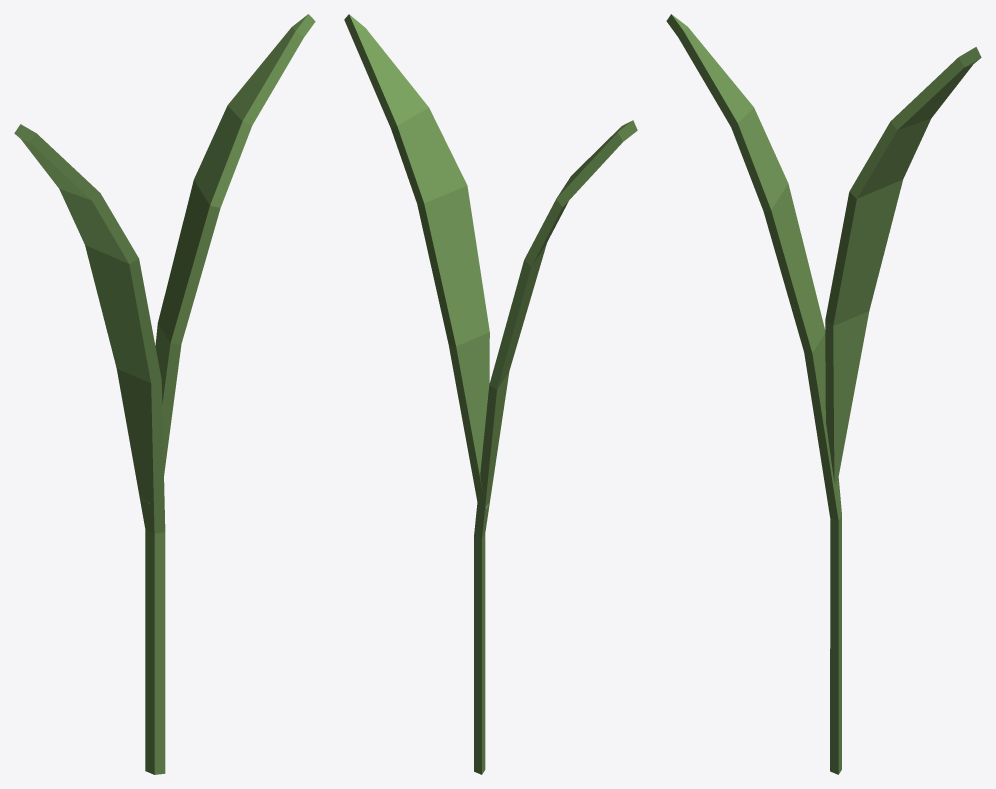
The model's file is Rice_1.glb.
3 views of the same model, side by side, from view 1: azimuth 30°, elevation 25°; view 2: azimuth 150°, elevation 25°; view 3: azimuth 330°, elevation 25° (orthographic). The views are drawn at different scales.
Parts seen in each view (by area): view 1: Rice_1.obj; view 2: Rice_1.obj; view 3: Rice_1.obj.
Boxes of the visible parts, bbox=[...] form: Rice_1.obj: bbox=[14, 14, 315, 774]; Rice_1.obj: bbox=[344, 14, 637, 774]; Rice_1.obj: bbox=[666, 14, 981, 774].
Bounding box in the file's own units: 0.1584 × 0.3679 × 0.0306.
